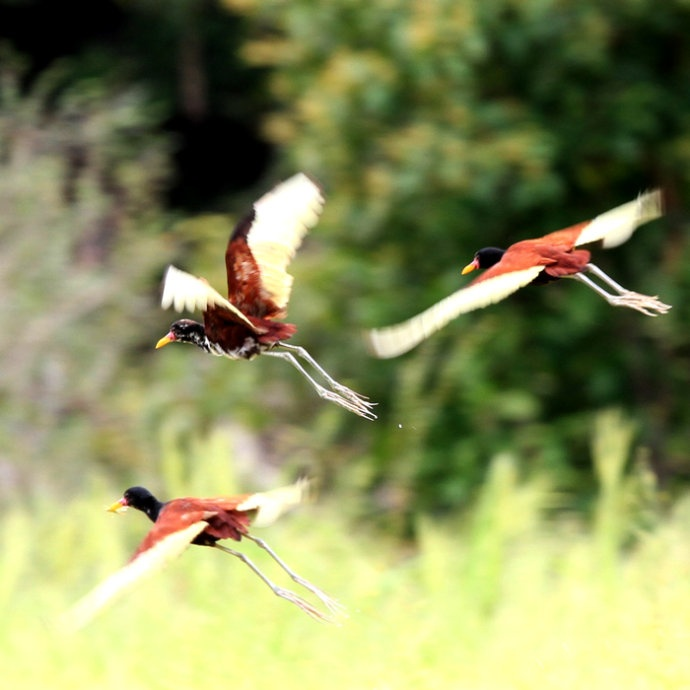bird: (148, 174, 384, 420), (360, 179, 668, 364), (87, 473, 328, 631)
